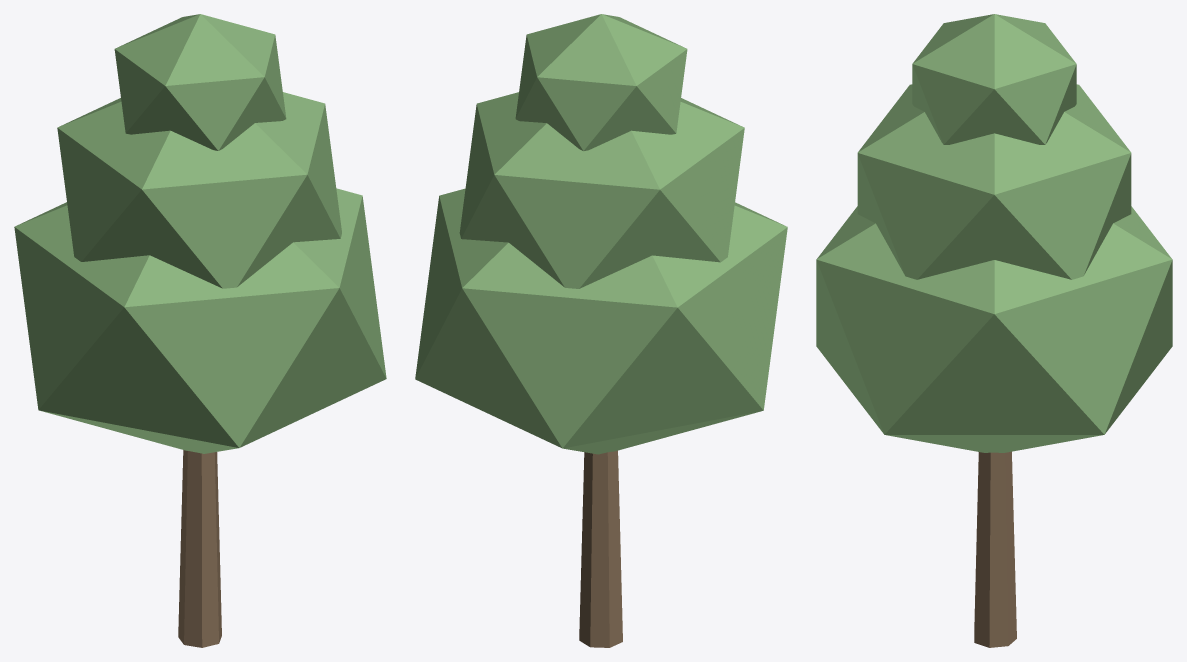
Rendered from tree.glb.
3 renders of one model, left to right at view 1: azimuth 30°, elevation 25°; view 2: azimuth 150°, elevation 25°; view 3: azimuth 270°, elevation 25°, orthographic.
Parts seen in each view (by area): view 1: tree; view 2: tree; view 3: tree.
Part boxes in pixels (x1=…): tree: x1=14, y1=14, x2=386, y2=647; tree: x1=415, y1=14, x2=787, y2=647; tree: x1=816, y1=14, x2=1172, y2=647.
Size of the model in its own units: 2.33 by 4.28 by 2.21.
